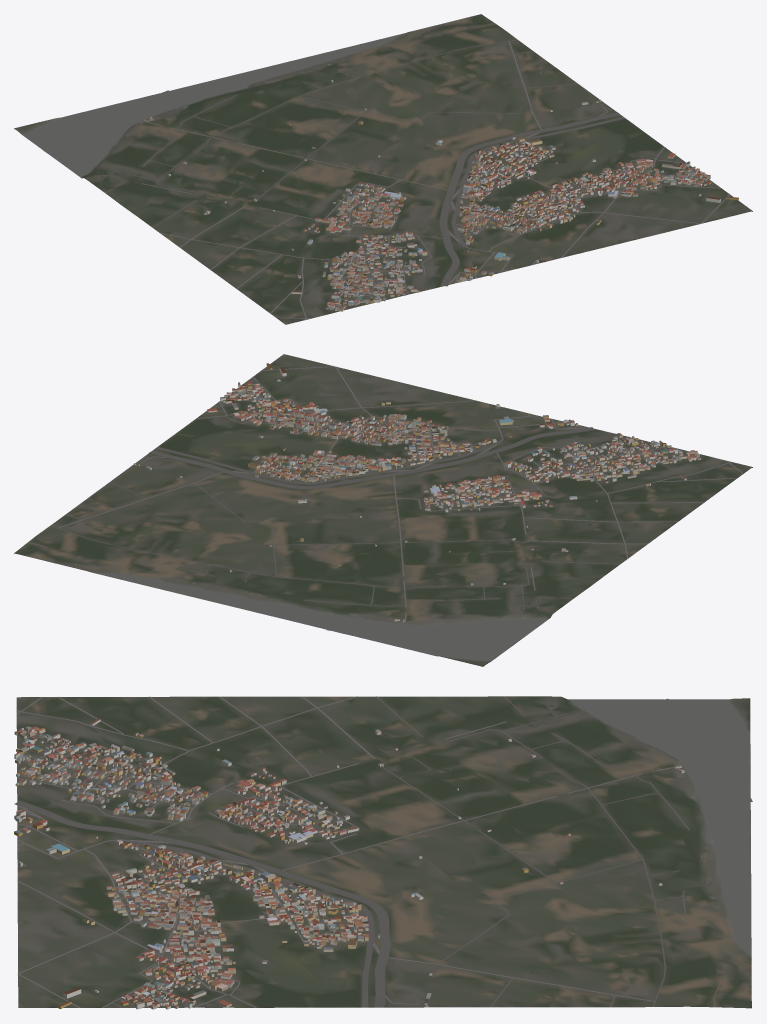
3 renders of one model, top to bottom at view 1: azimuth 30°, elevation 25°; view 2: azimuth 150°, elevation 25°; view 3: azimuth 270°, elevation 25°, orthographic. The views are drawn at different scales.
Parts seen in each view (by area): view 1: ground, buildings, water, roads; view 2: ground, buildings, roads, water; view 3: ground, buildings, water, roads.
Part boxes in pixels (x1,y1,x2,y2): ground: [14, 14, 752, 324]; buildings: [143, 80, 738, 311]; water: [23, 33, 403, 177]; roads: [95, 23, 730, 320]; ground: [14, 354, 752, 666]; buildings: [133, 363, 700, 622]; roads: [28, 366, 743, 622]; water: [92, 572, 548, 661]; ground: [16, 696, 751, 1008]; buildings: [14, 718, 684, 1009]; water: [570, 698, 752, 956]; roads: [14, 696, 721, 1007].
Bounding box in the file's own units: 1411 × 20.85 × 1412.
